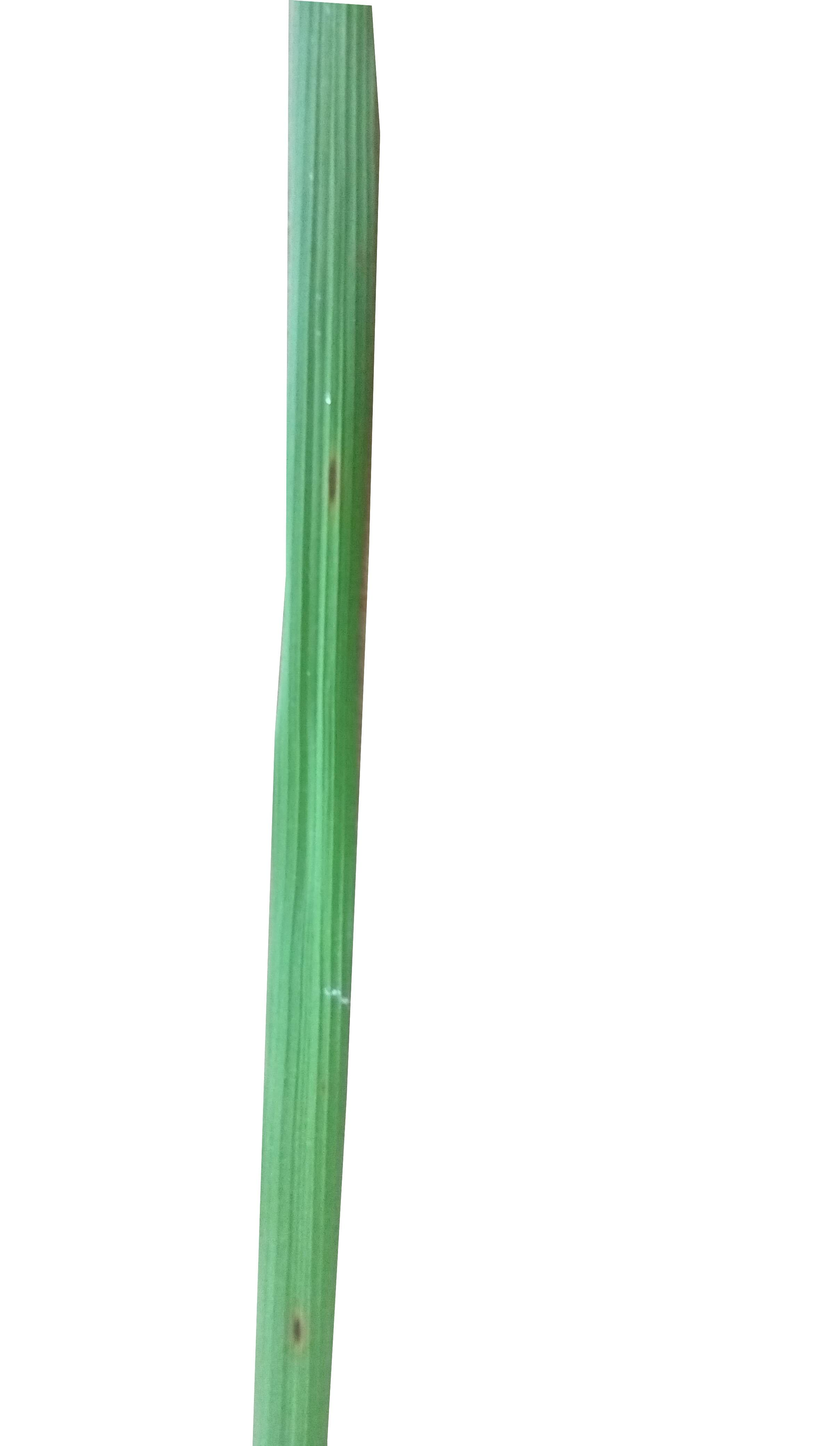Brown spot: (295, 424, 379, 535), (268, 1286, 330, 1356)
